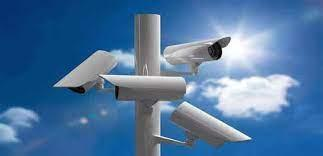tutu: (168, 100, 254, 151), (48, 47, 120, 101), (96, 72, 193, 104), (161, 30, 233, 69)
